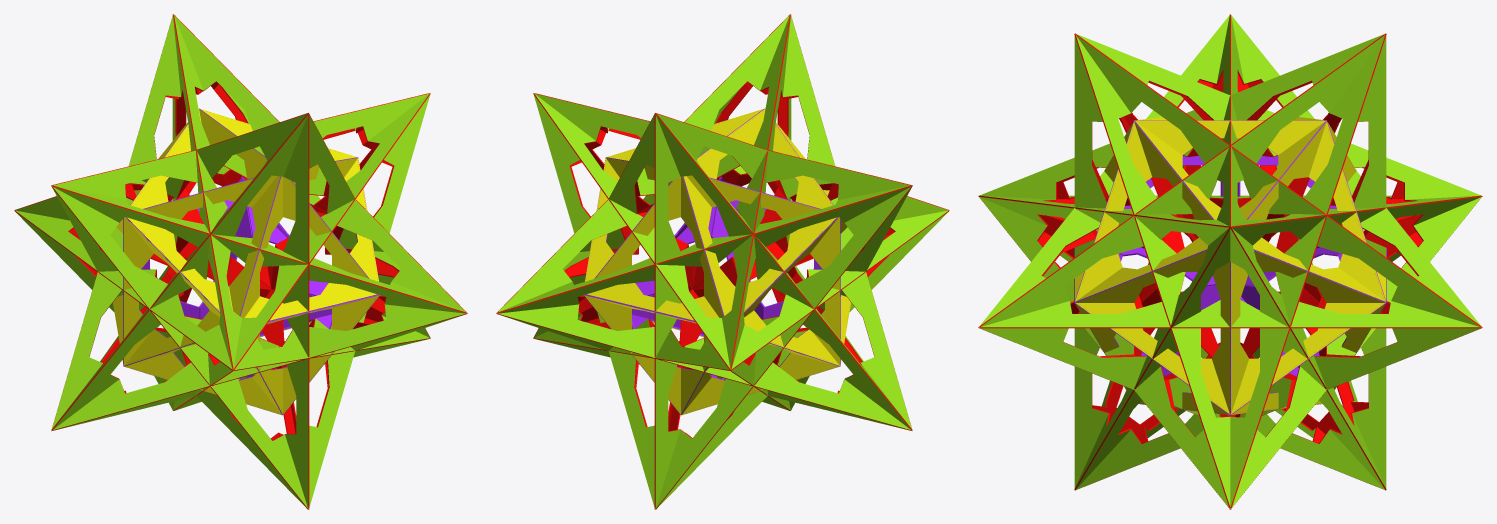
File: GreatIcosahedronS4.glb
The picture shows the model from 3 angles, left to right: view 1: azimuth 30°, elevation 25°; view 2: azimuth 150°, elevation 25°; view 3: azimuth 270°, elevation 25°; orthographic projection. The views are drawn at different scales.
Visible parts, largest first — view 1: Mesh_0001_1, Mesh_0004_1, Mesh_0001, Mesh_0004; view 2: Mesh_0001_1, Mesh_0004_1, Mesh_0001, Mesh_0004; view 3: Mesh_0001_1, Mesh_0004_1, Mesh_0001, Mesh_0004.
Part boxes in pixels (x1,y1,x2,y2): Mesh_0001_1: (14,14,466,509); Mesh_0004_1: (113,109,379,415); Mesh_0001: (14,14,467,509); Mesh_0004: (123,108,379,414); Mesh_0001_1: (497,14,949,509); Mesh_0004_1: (584,109,850,415); Mesh_0001: (496,14,949,509); Mesh_0004: (584,108,840,414); Mesh_0001_1: (978,14,1482,509); Mesh_0004_1: (1074,117,1386,414); Mesh_0001: (978,14,1482,509); Mesh_0004: (1074,117,1386,415).
Bounding box in the file's own units: 7.5 × 7.5 × 7.5.
